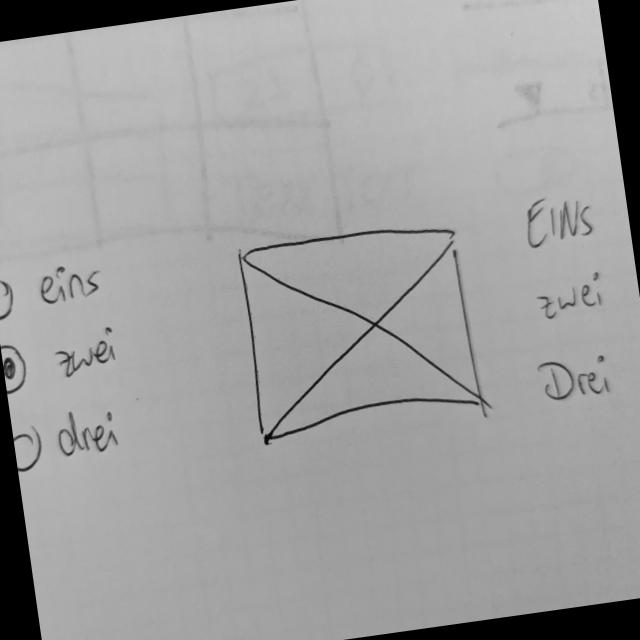image: (232, 217, 488, 451)
label: (518, 186, 605, 261), (535, 350, 618, 407), (534, 268, 610, 325)
radio: (1, 321, 125, 395), (12, 403, 126, 480), (1, 253, 106, 326)
